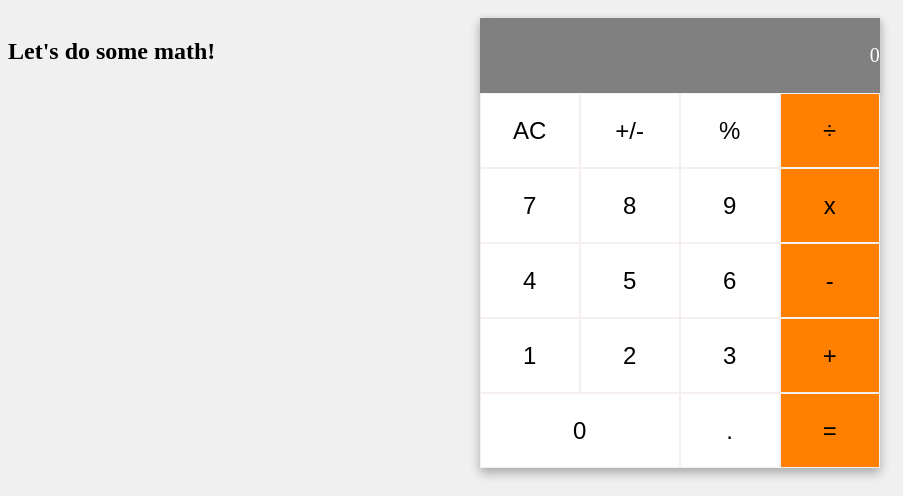
Calculator component › renders calculator with AC
The width and height of the screenshot is (903, 496).
Click the button "1": x=530, y=356 [480,318,580,393]
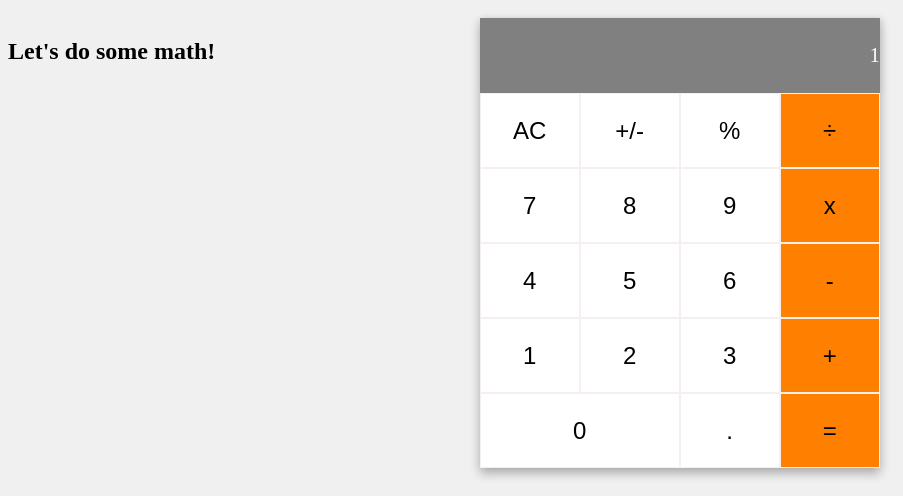
Click the button "AC": x=530, y=130 [480,93,580,168]
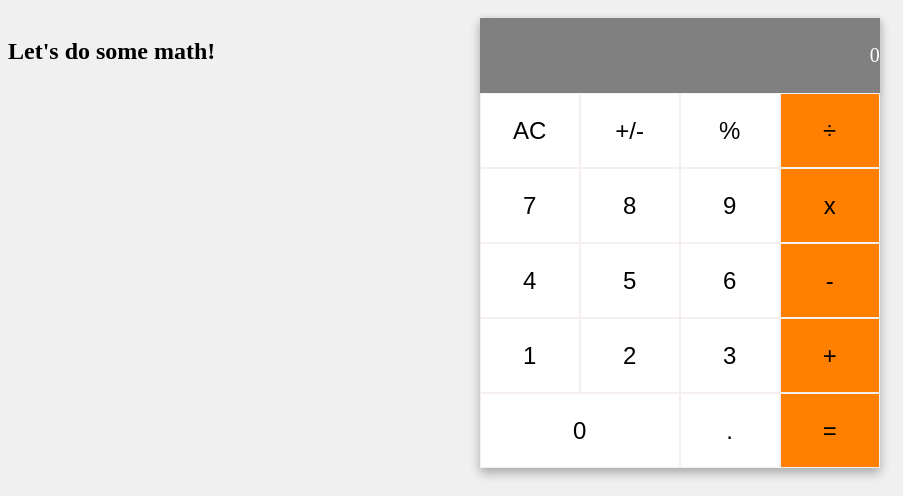
Expected: the text with test id "display" reads "0", [870,44,880,66]
